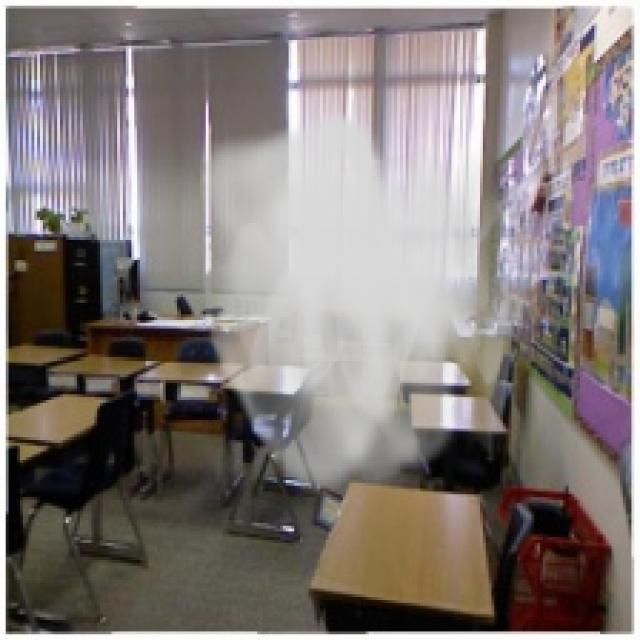Smoke: (188, 108, 552, 506)
